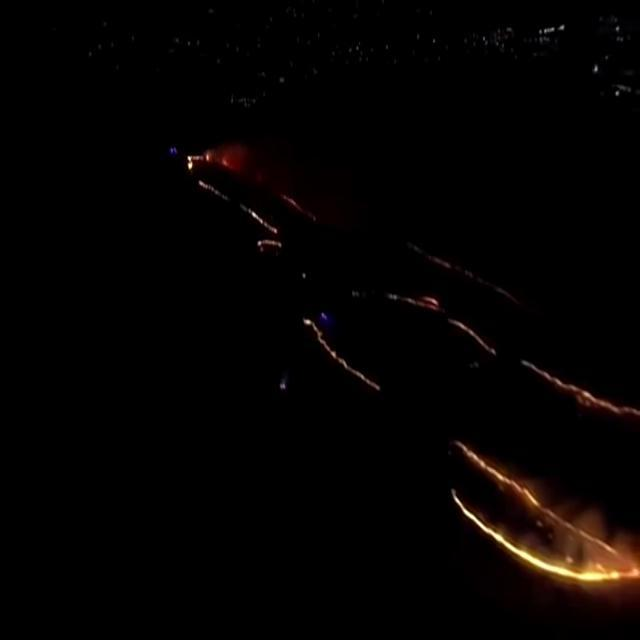Fire: (457, 438, 619, 560), (522, 355, 640, 416), (304, 320, 380, 390), (186, 150, 204, 172)
